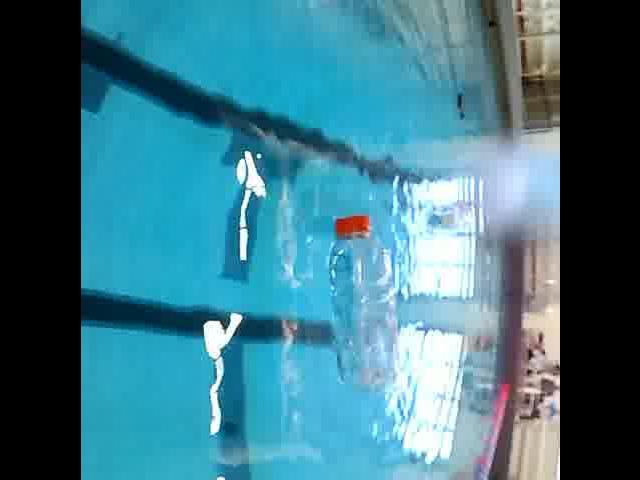Bottle: (320, 211, 406, 394)
